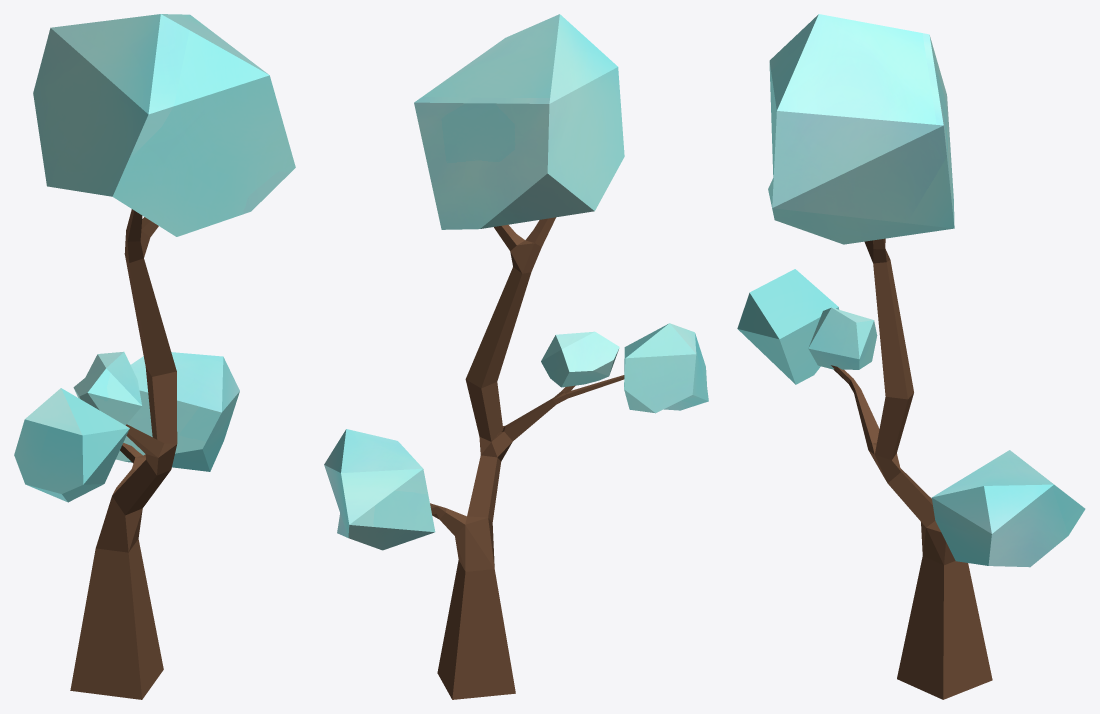
Rendered from tree.fbx.
3 views of the same model, side by side, from view 1: azimuth 30°, elevation 25°; view 2: azimuth 150°, elevation 25°; view 3: azimuth 270°, elevation 25° (orthographic). The views are drawn at different scales.
Parts seen in each view (by area): view 1: tree; view 2: tree; view 3: tree.
Boxes of the visible parts, <box> form: tree: <box>14,14,295,699</box>; tree: <box>324,14,708,699</box>; tree: <box>737,14,1085,699</box>.
Bounding box in the file's own units: 179 × 378 × 182.
2 materials, 1 textured.
